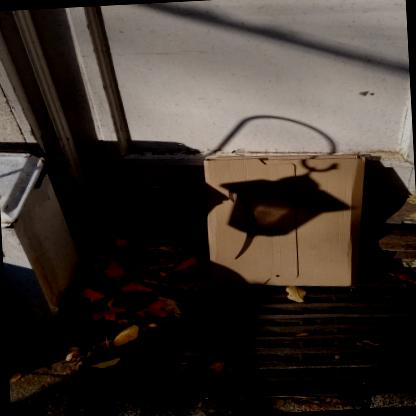box: (203, 150, 368, 289)
